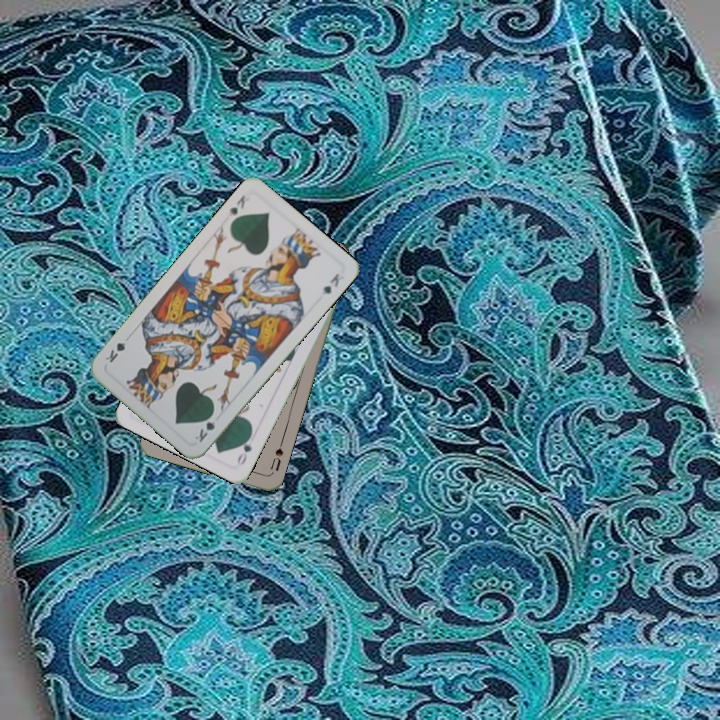GK: (191, 408, 218, 445), (225, 190, 248, 217)
GO: (233, 429, 255, 468)
SU: (266, 437, 286, 477)
